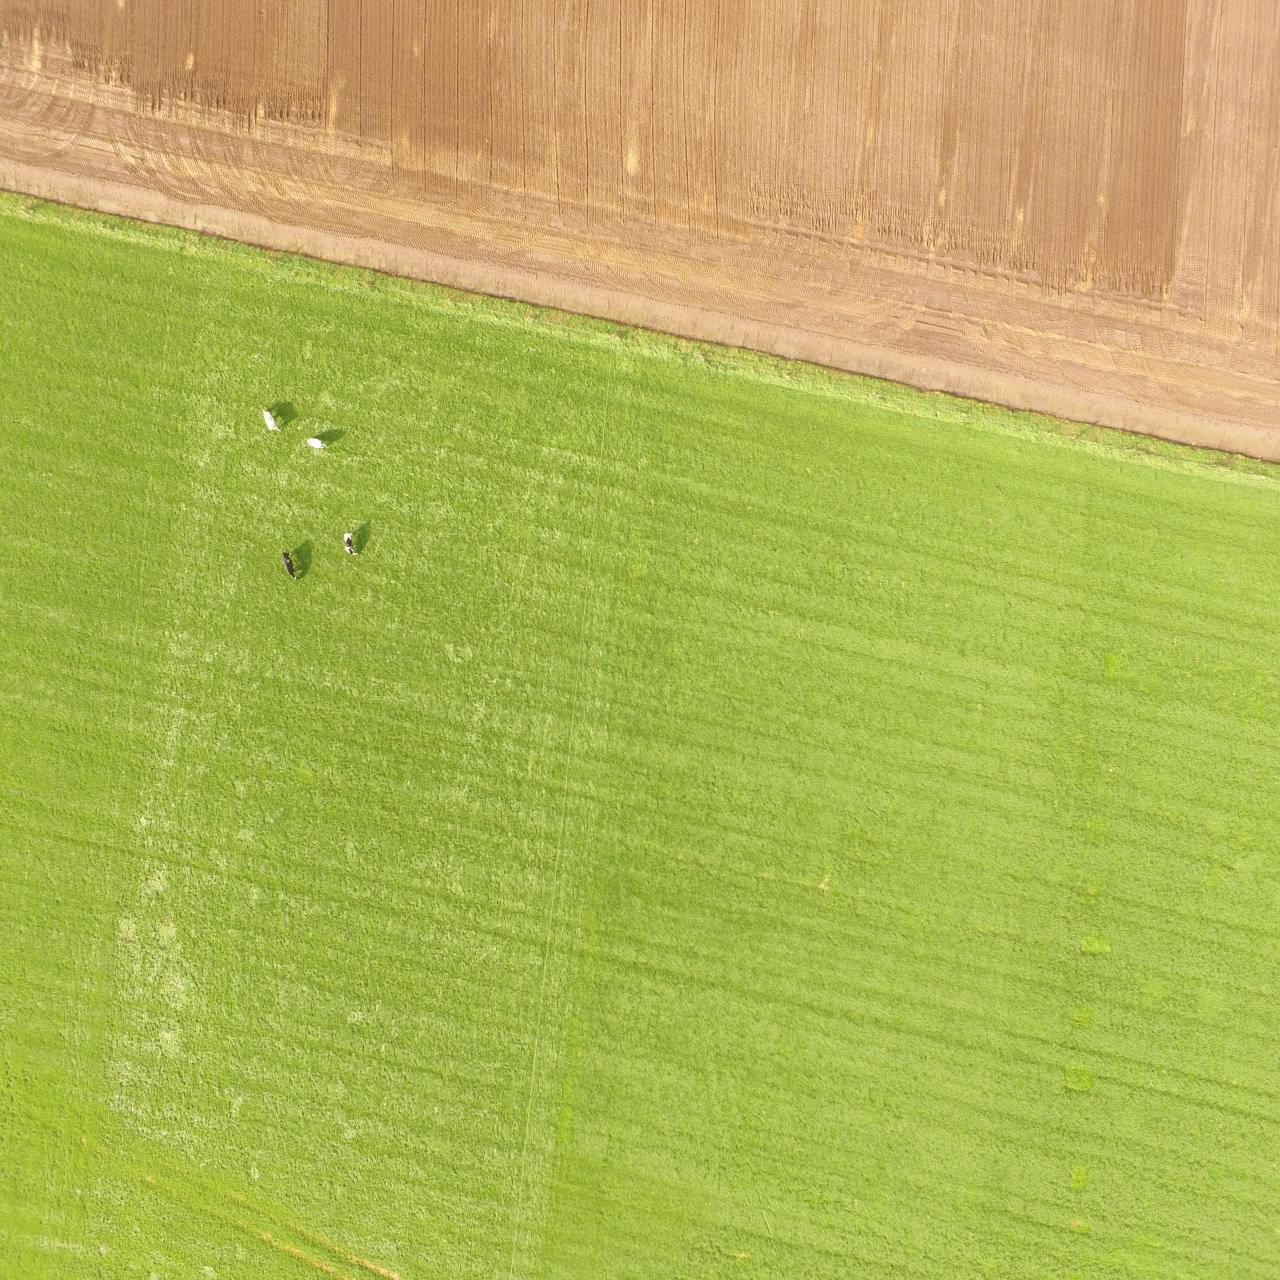cow: (277, 543, 301, 584), (338, 525, 360, 561), (306, 428, 329, 458), (261, 407, 284, 438)
